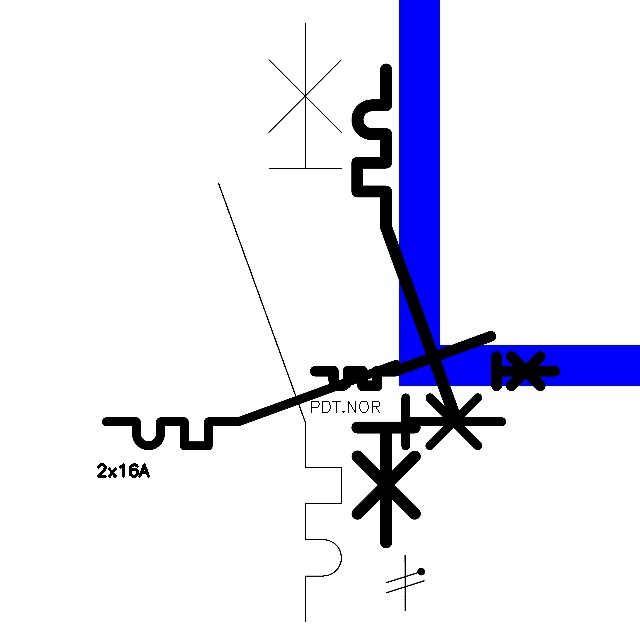interruptor_termomagnetico: (203, 8, 357, 637), (345, 57, 467, 555), (96, 354, 511, 456), (309, 330, 561, 392)
